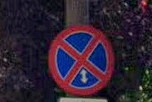oprirea_interzisa: (46, 23, 118, 97)
